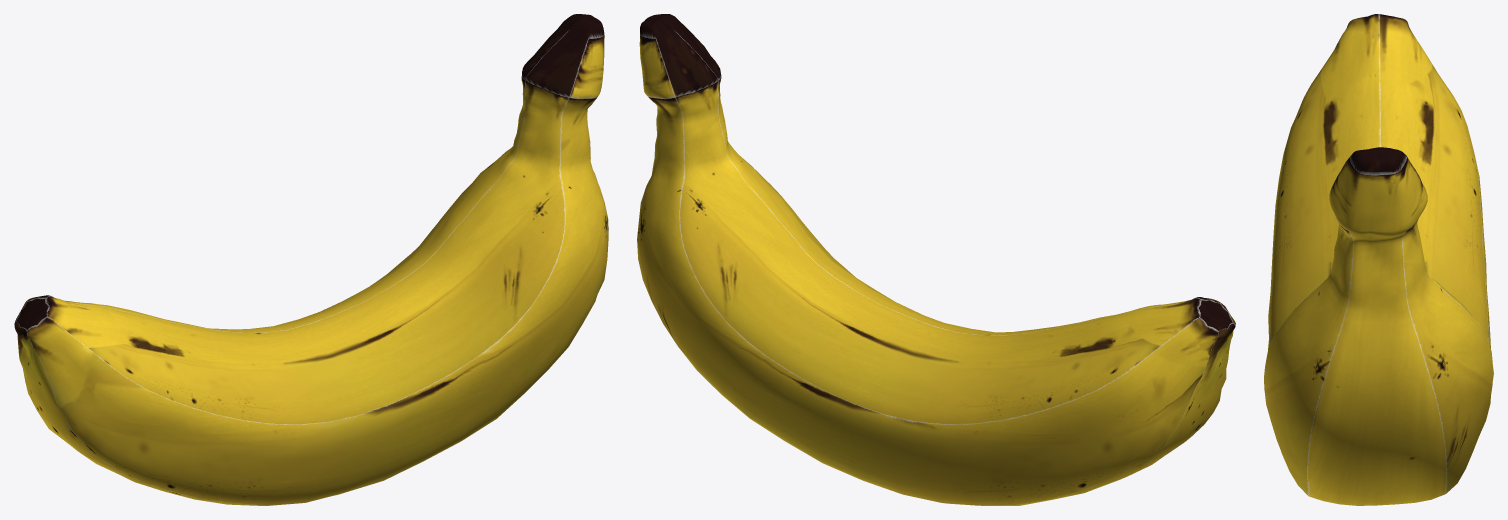
File: BANANAfbx.fbx
3 renders of one model, left to right at view 1: azimuth 30°, elevation 25°; view 2: azimuth 150°, elevation 25°; view 3: azimuth 270°, elevation 25°, orthographic. The views are drawn at different scales.
Visible parts, largest first — view 1: Cylinder; view 2: Cylinder; view 3: Cylinder.
Part boxes in pixels (x1,y1,x2,y2): Cylinder: (14, 14, 608, 505); Cylinder: (637, 14, 1235, 505); Cylinder: (1264, 14, 1493, 505).
Size of the model in its own units: 17.69 by 11.55 by 5.12.
Materials: 1 (1 with a texture image).
